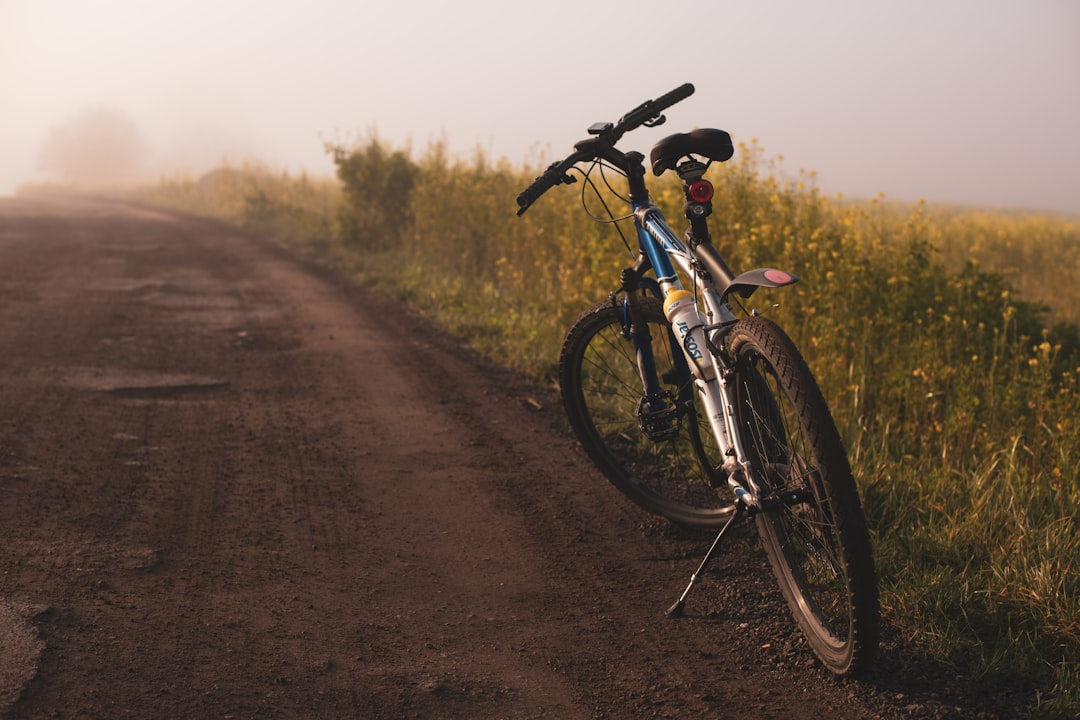bicycle: (512, 84, 879, 670)
